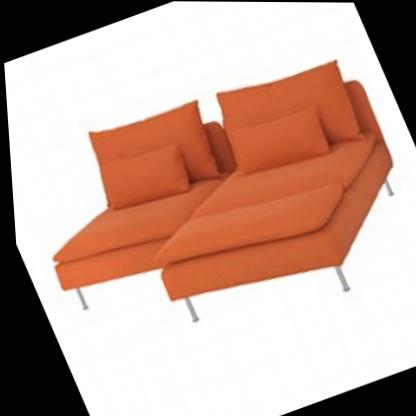Sofa: (1, 14, 416, 394)
